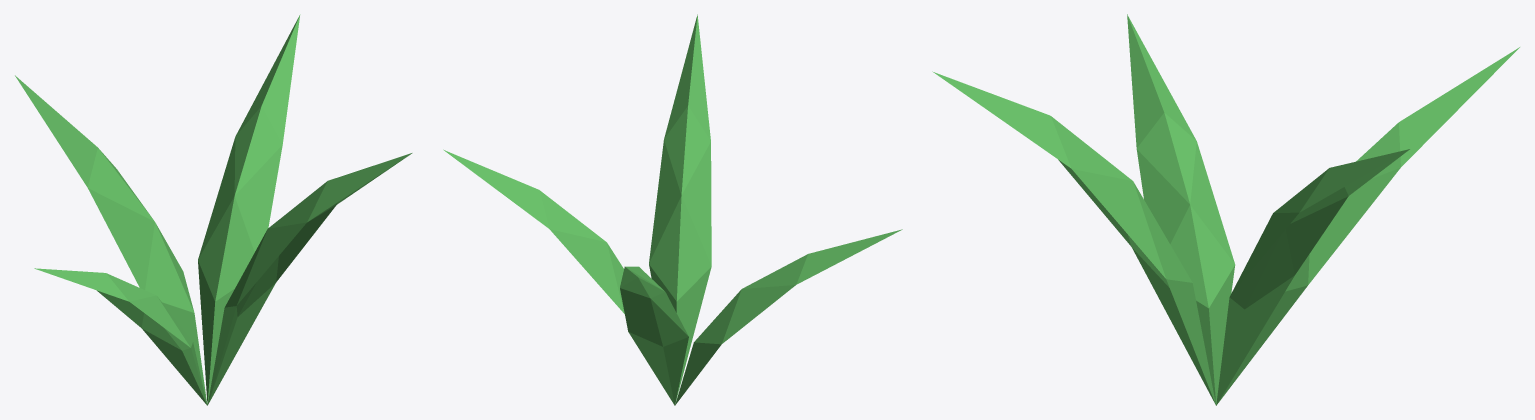
File: Prop_Grass_Clump_2.gltf
3 views of the same model, side by side, from view 1: azimuth 30°, elevation 25°; view 2: azimuth 150°, elevation 25°; view 3: azimuth 270°, elevation 25° (orthographic). The views are drawn at different scales.
Visible parts, largest first — view 1: object1, object2, object4, object3; view 2: object4, object3, object2, object1; view 3: object3, object4, object1, object2.
Part boxes in pixels (x1=…): object1: x1=198, y1=14, x2=300, y2=405; object2: x1=15, y1=75, x2=207, y2=403; object4: x1=207, y1=153, x2=412, y2=404; object3: x1=34, y1=268, x2=207, y2=405; object4: x1=649, y1=14, x2=711, y2=403; object3: x1=675, y1=229, x2=902, y2=405; object2: x1=620, y1=266, x2=688, y2=405; object1: x1=443, y1=149, x2=624, y2=314; object3: x1=1127, y1=14, x2=1235, y2=405; object4: x1=932, y1=71, x2=1215, y2=404; object1: x1=1216, y1=149, x2=1409, y2=405; object2: x1=1217, y1=47, x2=1519, y2=404.
Bounding box in the file's own units: 0.5778 × 0.4564 × 0.6259.
